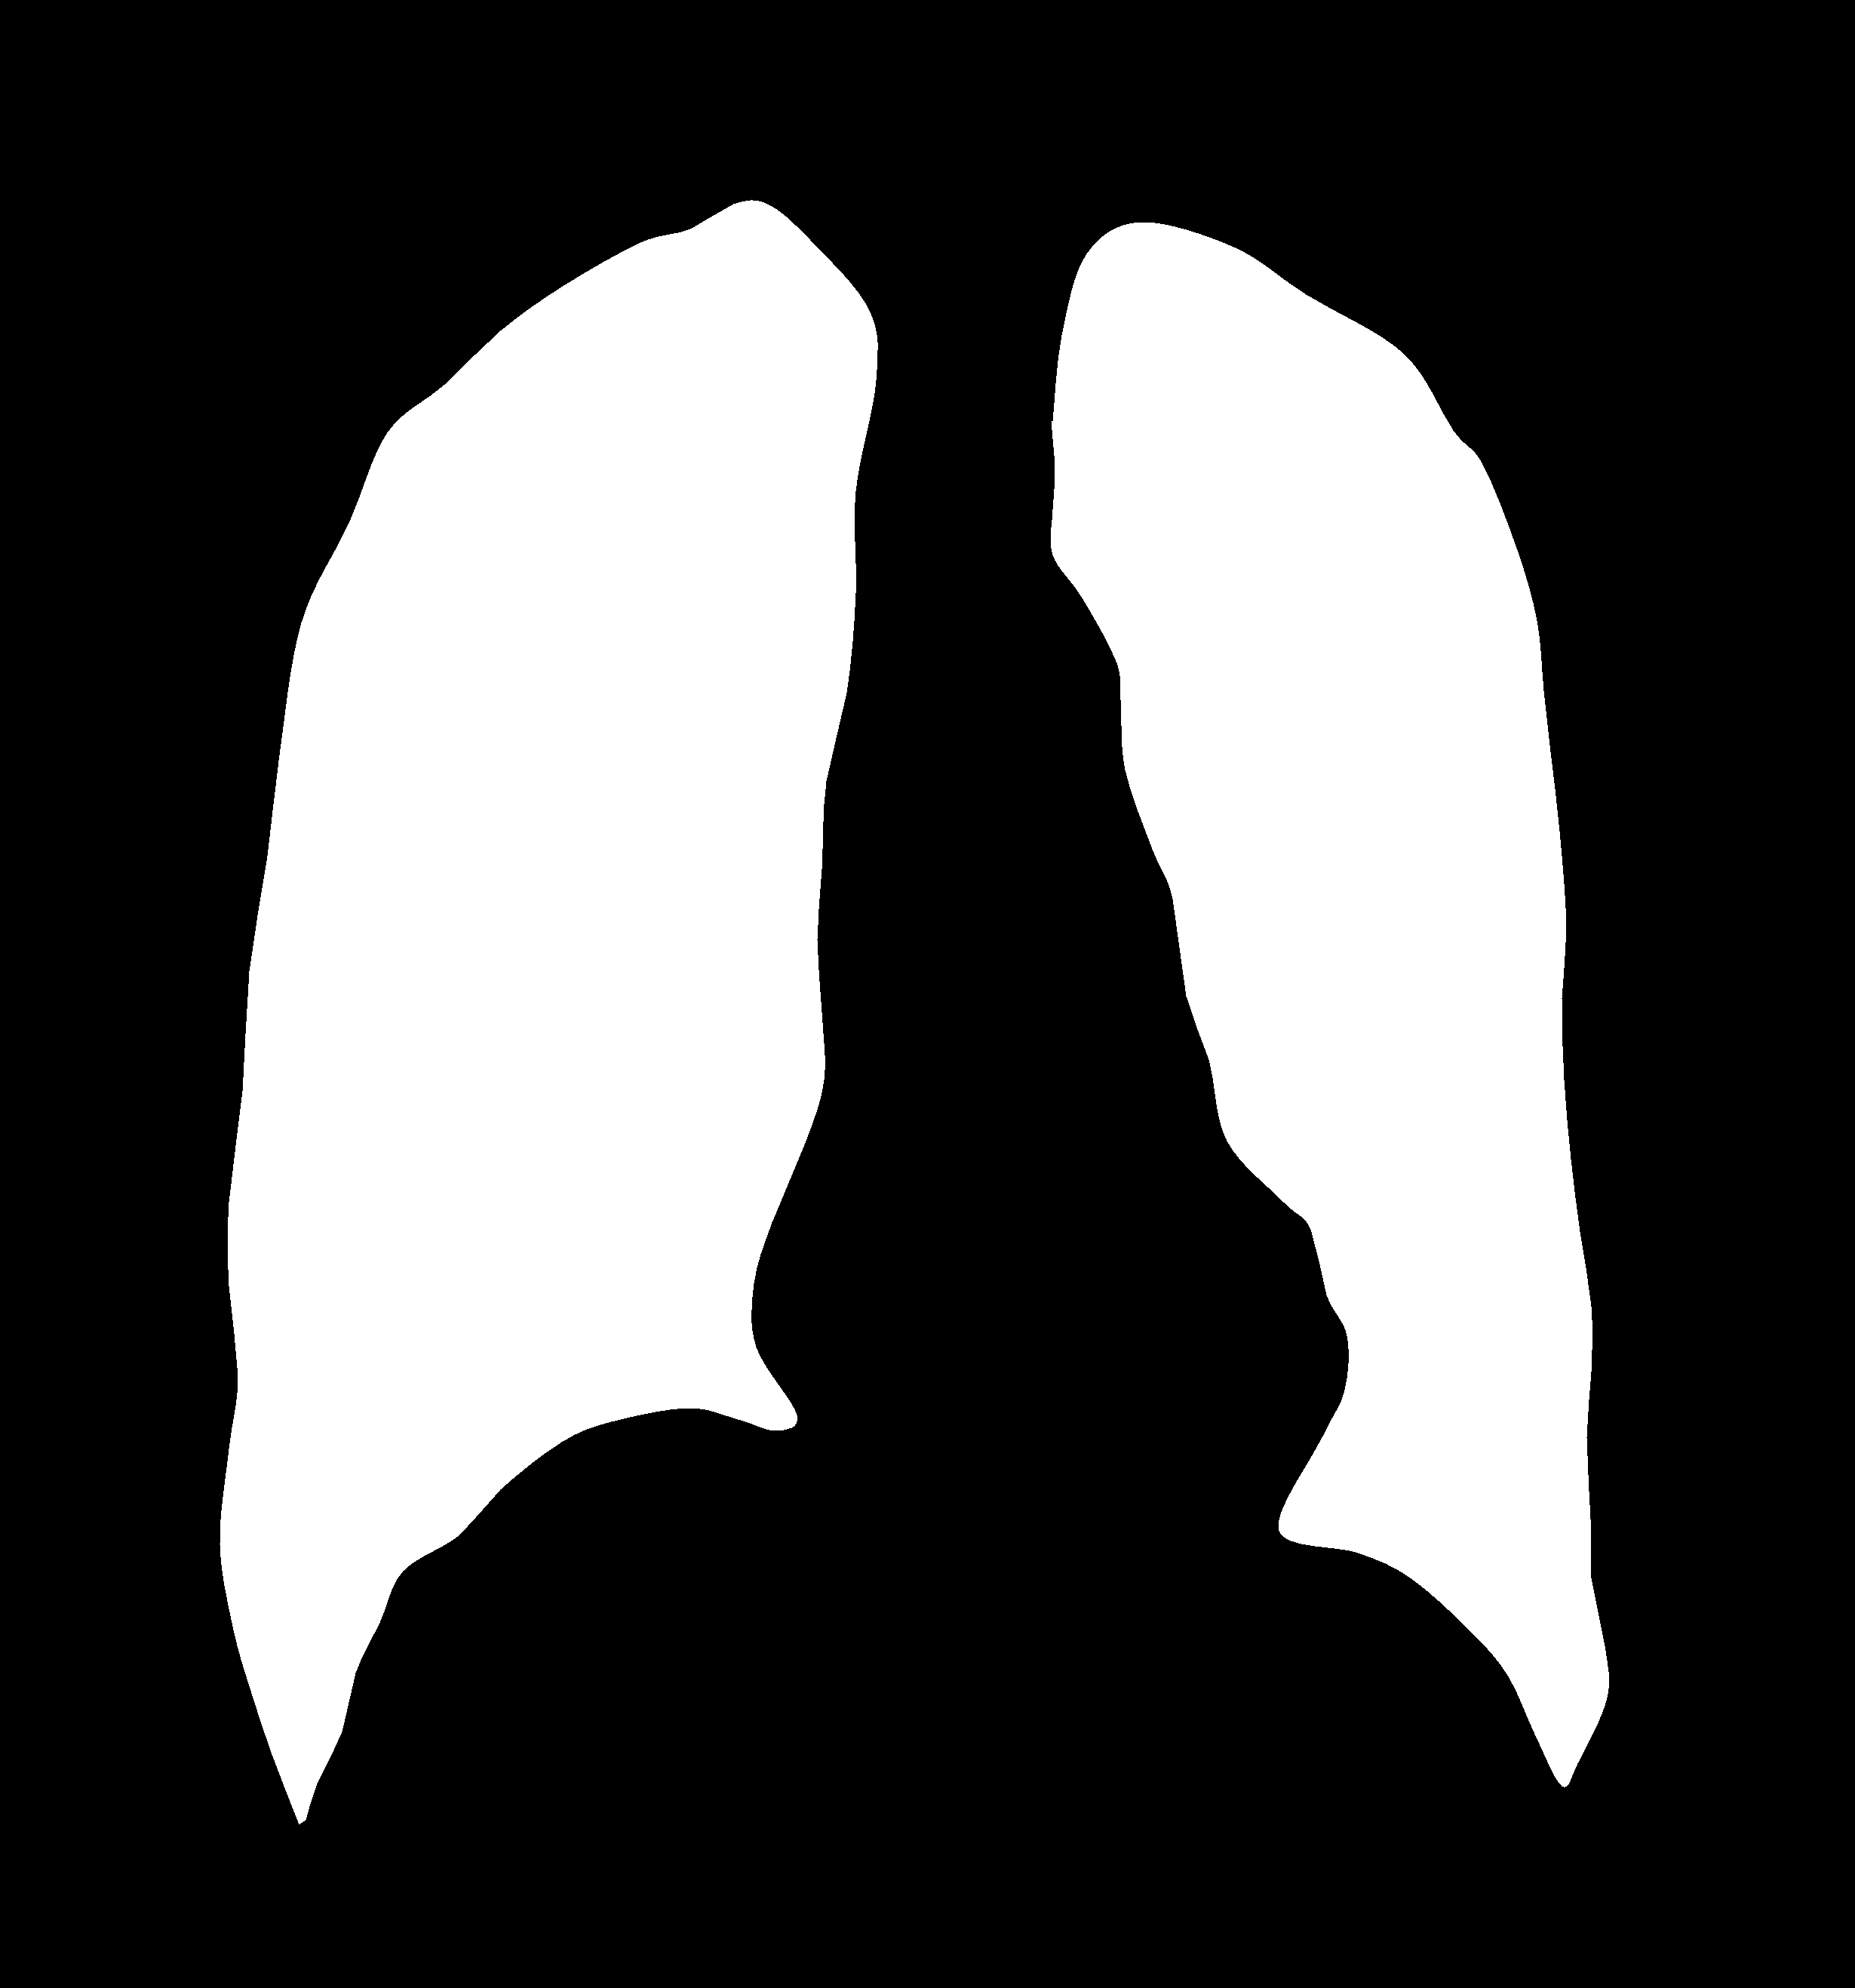heart: (744, 1099, 1353, 1613)
left_lung: (227, 201, 877, 1826)
right_lung: (1050, 218, 1609, 1787)
